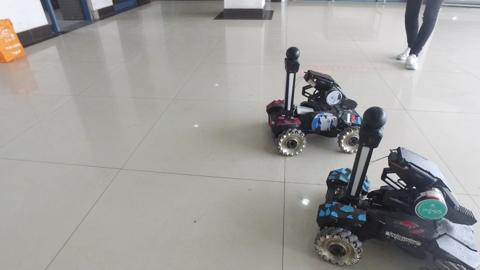chariot: (319, 109, 479, 269), (261, 45, 376, 158)
